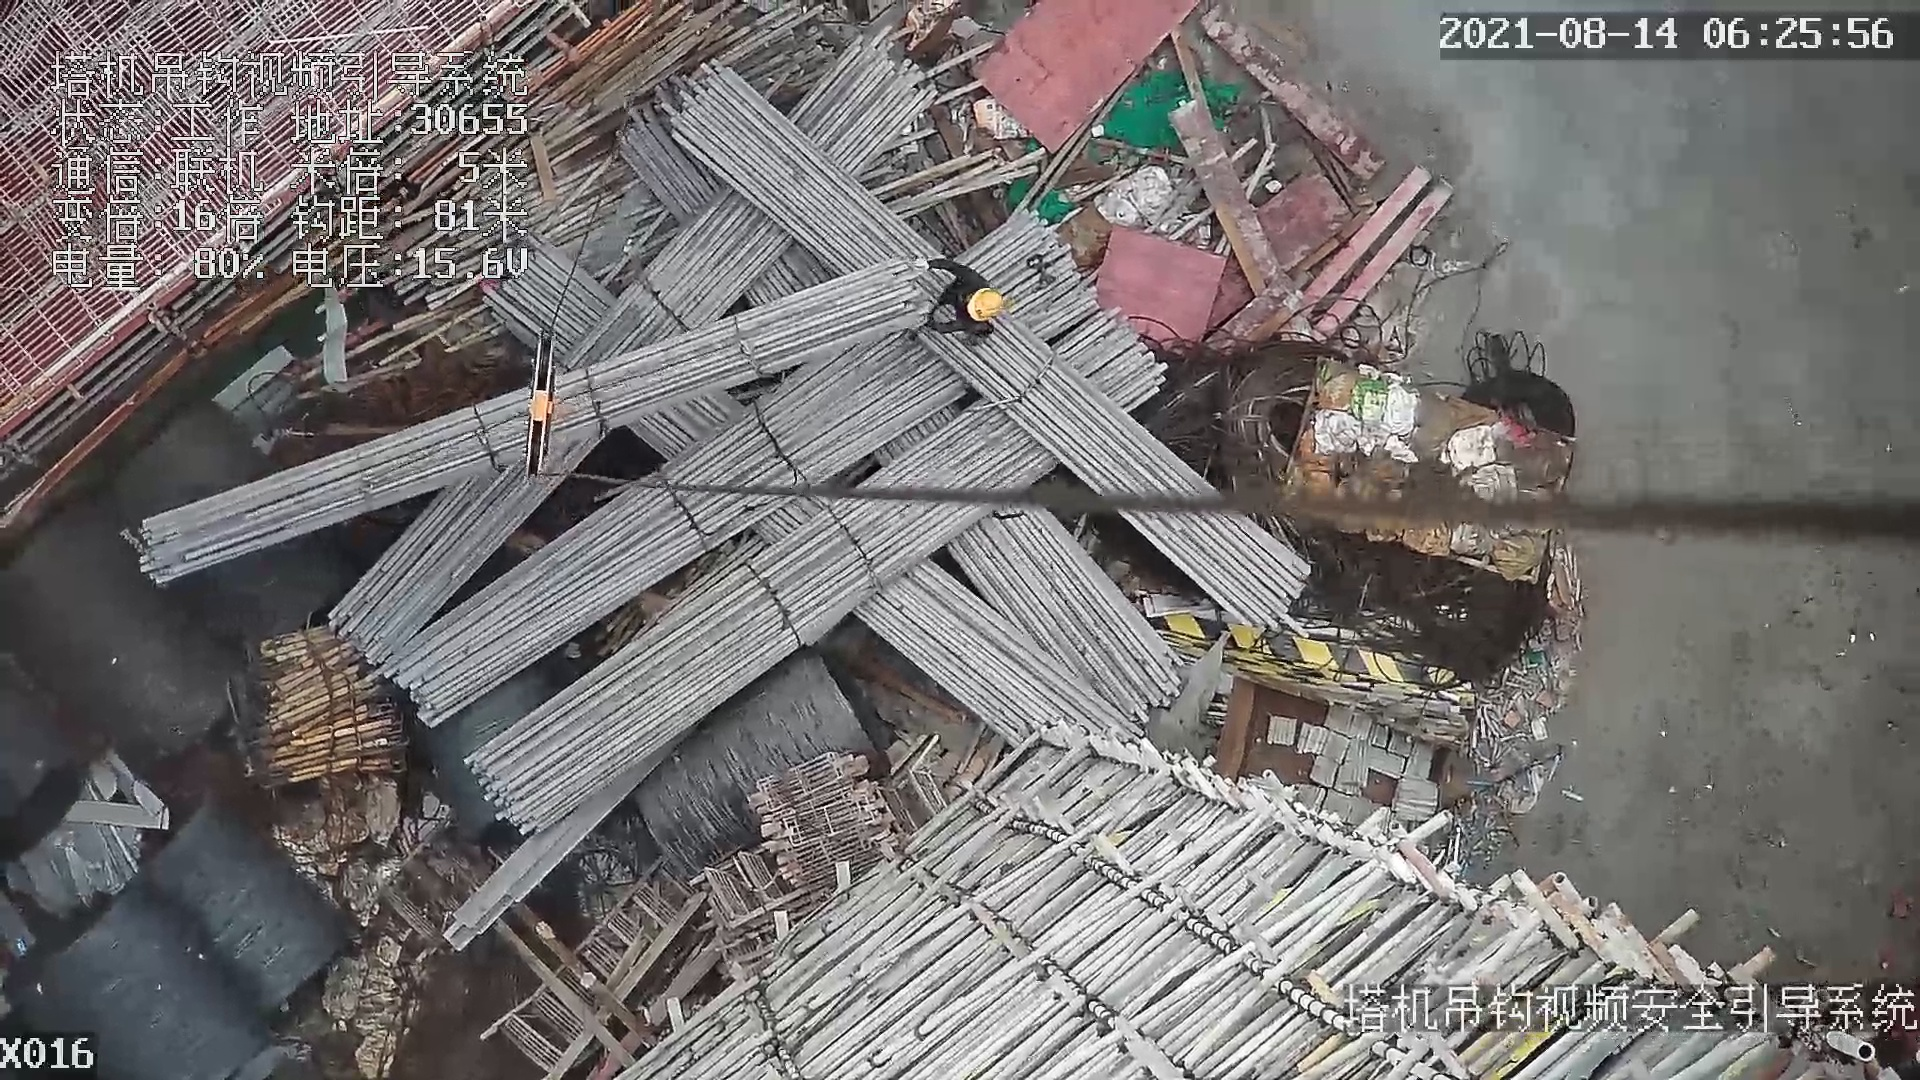helmet: (967, 285, 1004, 331)
hook: (522, 323, 563, 482)
person: (909, 255, 1003, 349)
